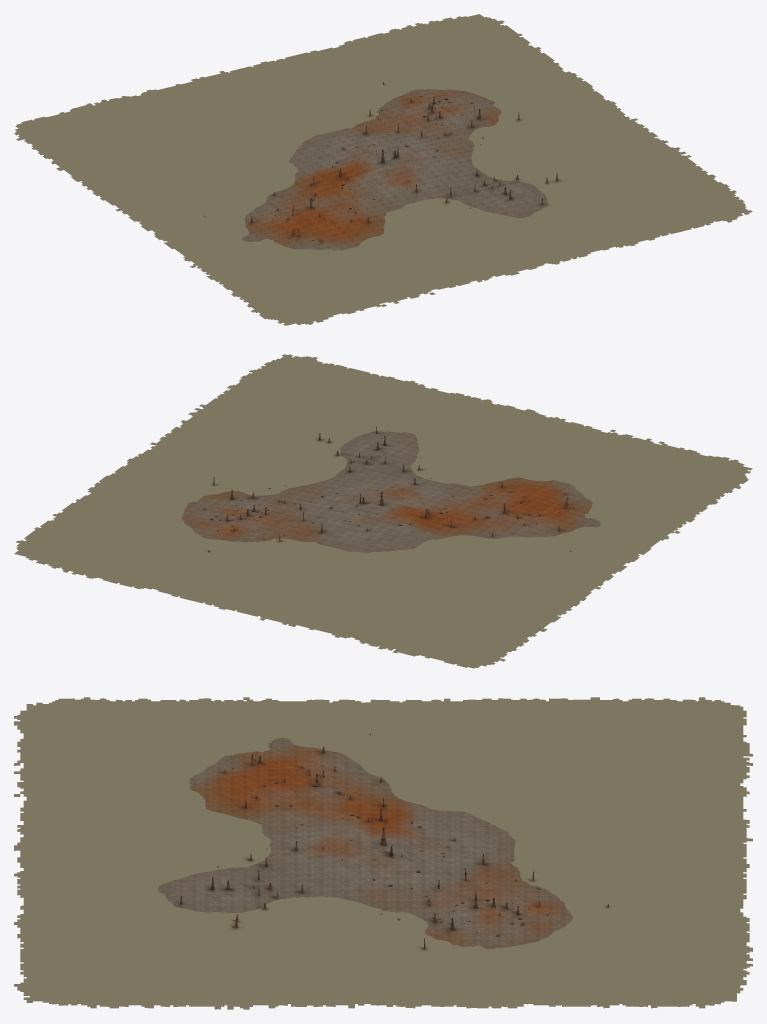
3 renders of one model, top to bottom at view 1: azimuth 30°, elevation 25°; view 2: azimuth 150°, elevation 25°; view 3: azimuth 270°, elevation 25°, orthographic. The views are drawn at different scales.
Visible parts, largest first — view 1: sediment, vent_mounds, chimneys; view 2: sediment, vent_mounds, chimneys; view 3: sediment, vent_mounds, chimneys.
Part boxes in pixels (x1=…): sediment: x1=14, y1=14, x2=752, y2=325; vent_mounds: x1=241, y1=89, x2=548, y2=250; chimneys: x1=204, y1=82, x2=557, y2=241; sediment: x1=14, y1=354, x2=752, y2=668; vent_mounds: x1=181, y1=431, x2=600, y2=552; chimneys: x1=208, y1=427, x2=571, y2=552; sediment: x1=14, y1=697, x2=752, y2=1009; vent_mounds: x1=158, y1=737, x2=572, y2=949; chimneys: x1=180, y1=733, x2=609, y2=949.
Size of the model in its own units: 232 by 9.03 by 232.
2 materials, 1 textured.
